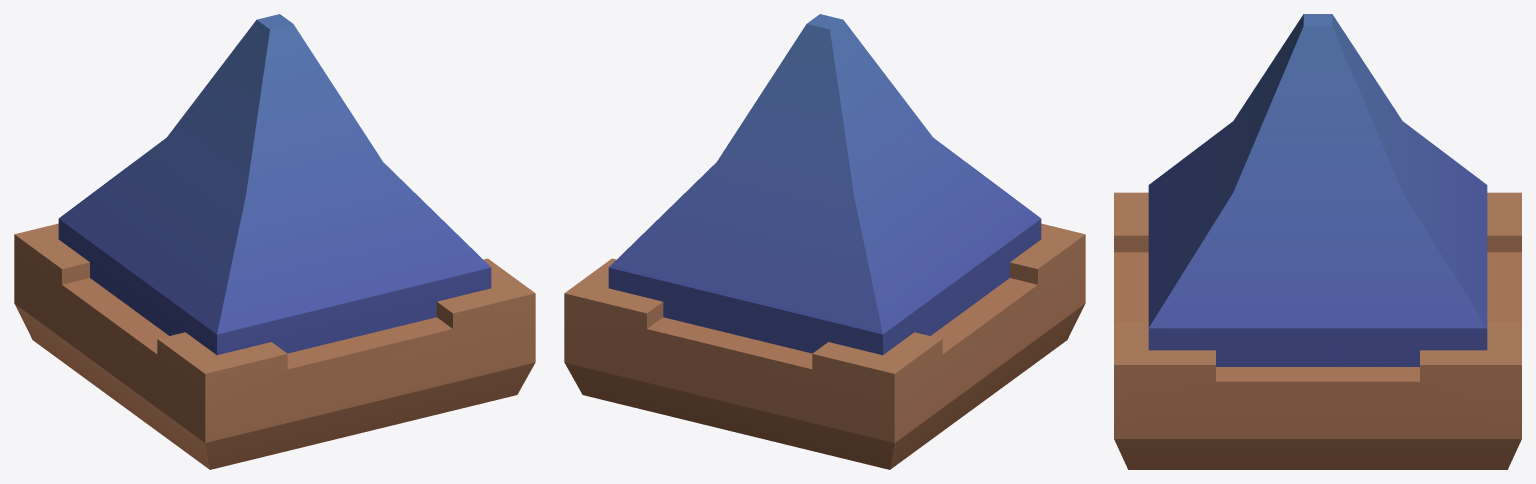
File: tower-square-top-roof.glb
The picture shows the model from 3 angles, left to right: view 1: azimuth 30°, elevation 25°; view 2: azimuth 150°, elevation 25°; view 3: azimuth 270°, elevation 25°; orthographic projection. The views are drawn at different scales.
Visible parts, largest first — view 1: tower-square-top-roof; view 2: tower-square-top-roof; view 3: tower-square-top-roof.
Boxes of the visible parts, left/top/right/bottom form: tower-square-top-roof: left=14, top=14, right=535, bottom=469; tower-square-top-roof: left=564, top=14, right=1085, bottom=469; tower-square-top-roof: left=1114, top=14, right=1521, bottom=469.
Size of the model in its own units: 1 by 1 by 1.
